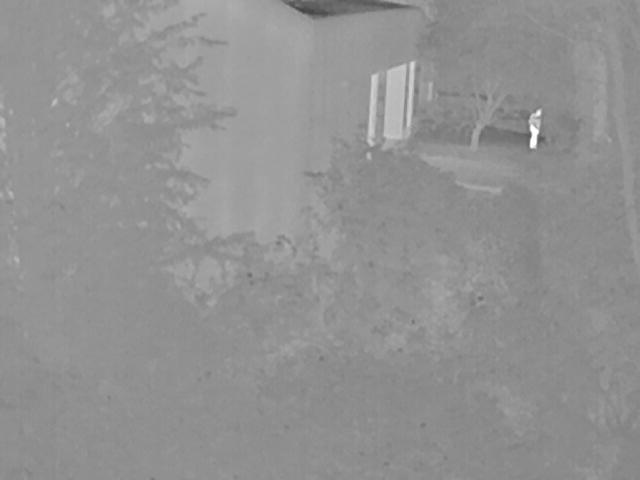person: (527, 107, 543, 148)
